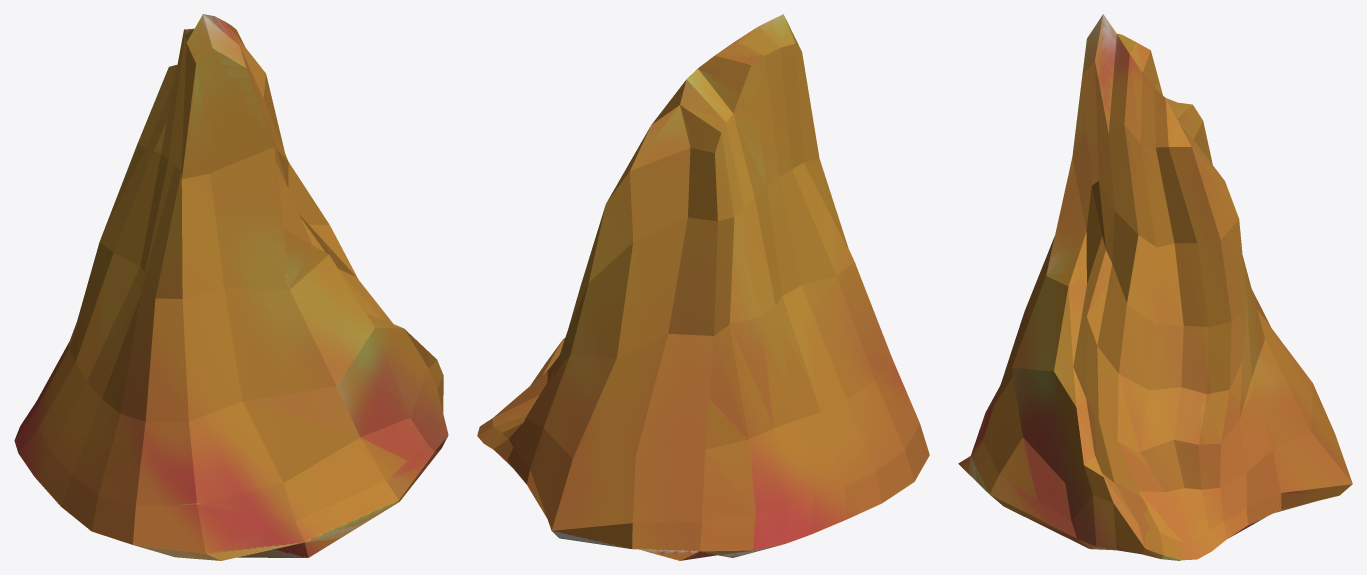
The model's file is mountain.fbx.
3 renders of one model, left to right at view 1: azimuth 30°, elevation 25°; view 2: azimuth 150°, elevation 25°; view 3: azimuth 270°, elevation 25°, orthographic. The views are drawn at different scales.
Parts seen in each view (by area): view 1: Cube; view 2: Cube; view 3: Cube.
Boxes of the visible parts, x1=… form: Cube: x1=14, y1=14, x2=448, y2=560; Cube: x1=477, y1=14, x2=929, y2=560; Cube: x1=958, y1=14, x2=1352, y2=560.
Bounding box in the file's own units: 603 × 704 × 570.
